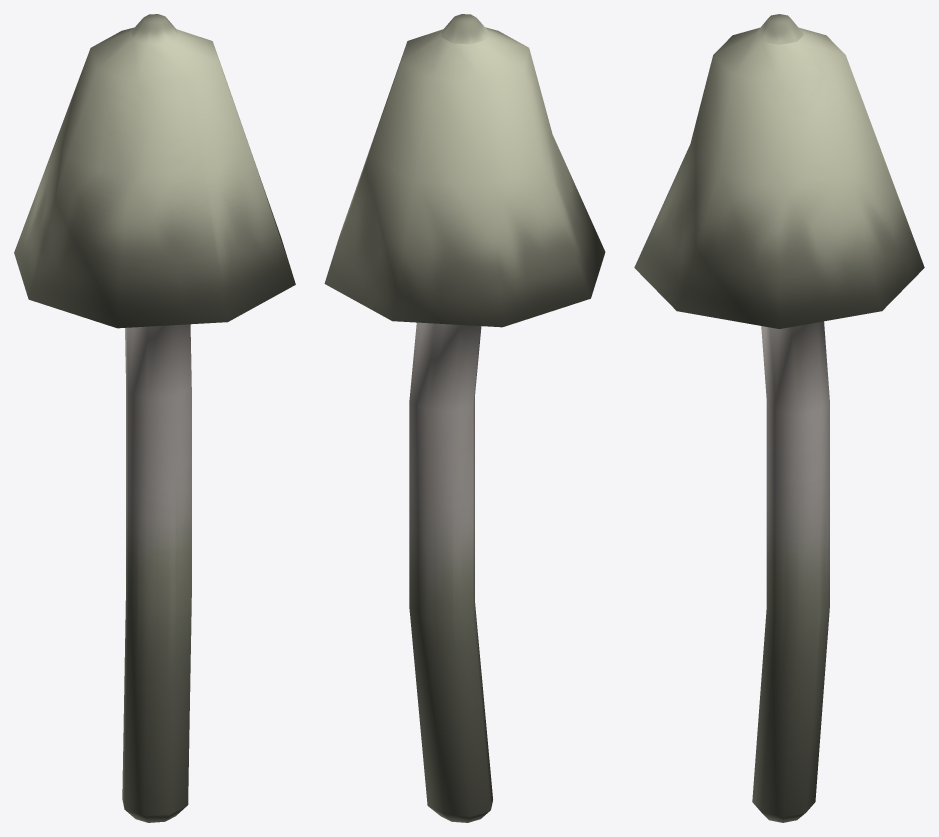
The model's file is LibertyCapMushroom.fbx.
3 renders of one model, left to right at view 1: azimuth 30°, elevation 25°; view 2: azimuth 150°, elevation 25°; view 3: azimuth 270°, elevation 25°, orthographic.
Parts seen in each view (by area): view 1: SM_Libertycap; view 2: SM_Libertycap; view 3: SM_Libertycap.
Boxes of the visible parts, bbox=[...] form: SM_Libertycap: bbox=[14, 14, 295, 822]; SM_Libertycap: bbox=[324, 14, 605, 822]; SM_Libertycap: bbox=[634, 14, 924, 822].
Size of the model in its own units: 35.41 by 107 by 35.41.
